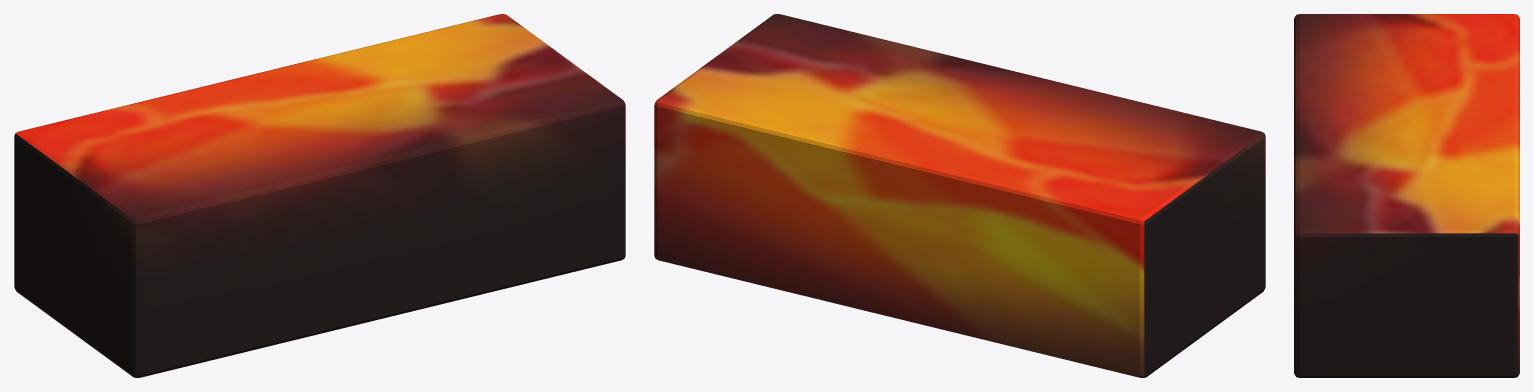
File: Ice.fbx
The picture shows the model from 3 angles, left to right: view 1: azimuth 30°, elevation 25°; view 2: azimuth 150°, elevation 25°; view 3: azimuth 270°, elevation 25°; orthographic projection. The views are drawn at different scales.
Parts seen in each view (by area): view 1: ice; view 2: ice; view 3: ice.
Boxes of the visible parts, bbox=[...] form: ice: bbox=[14, 14, 625, 377]; ice: bbox=[654, 14, 1265, 377]; ice: bbox=[1294, 14, 1519, 377].
Size of the model in its own units: 13.02 by 4.01 by 5.63.
